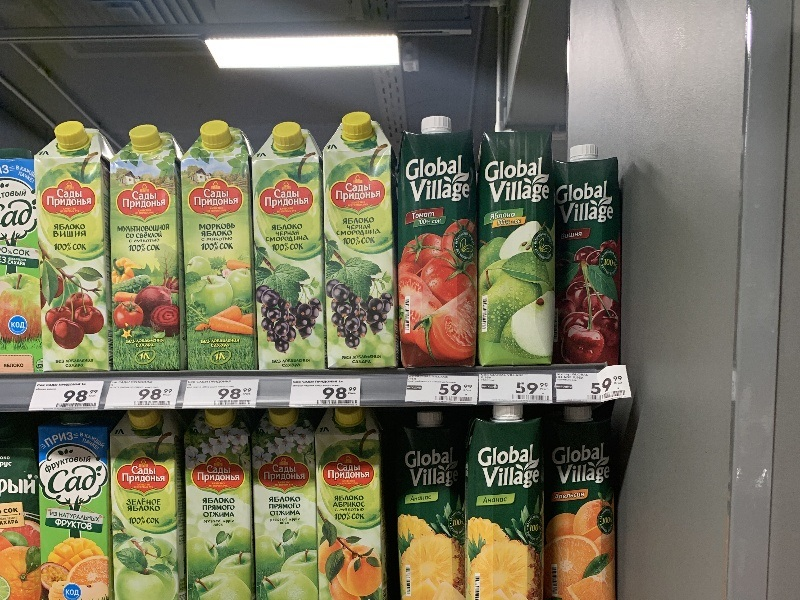juice: (385, 109, 490, 373), (314, 109, 409, 380), (26, 112, 120, 380), (464, 116, 562, 373), (170, 116, 264, 376), (98, 125, 194, 378), (244, 118, 336, 376), (543, 132, 632, 377), (456, 401, 554, 599), (99, 405, 197, 597), (180, 405, 266, 599), (244, 404, 327, 598)
